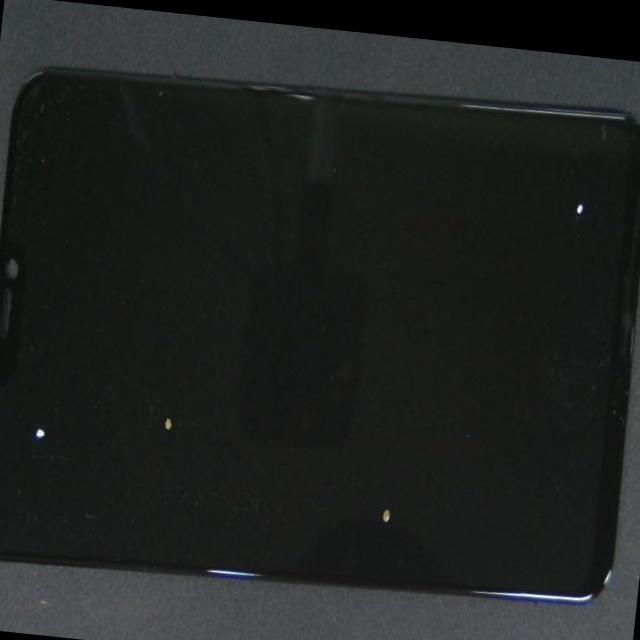stain: (162, 207, 625, 640), (57, 141, 289, 603), (295, 53, 640, 244), (4, 168, 100, 616)
